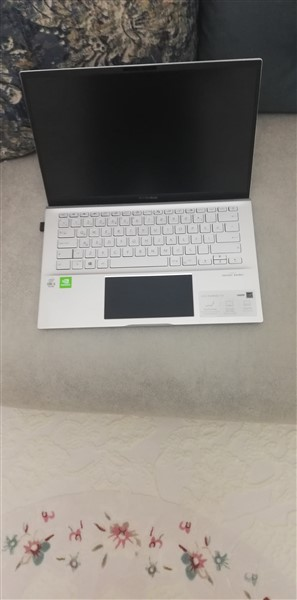laptop: (19, 48, 287, 348)
